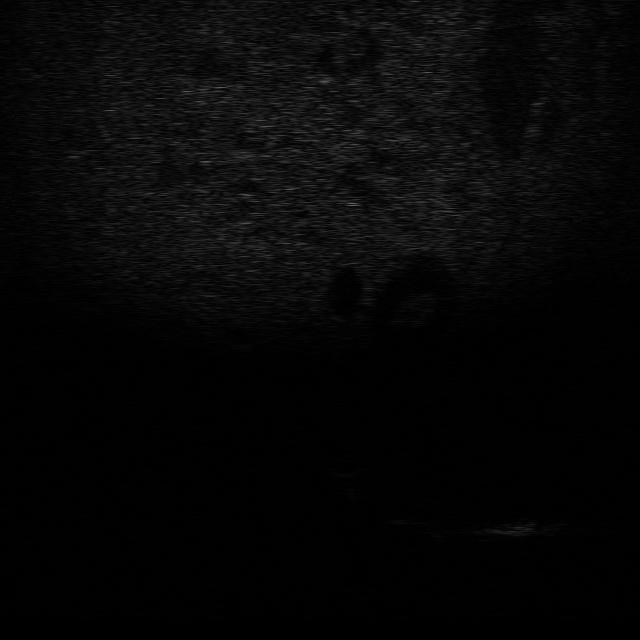ball: (324, 453, 370, 478)
metal bucket: (456, 515, 574, 542)
tyre: (378, 496, 448, 526)
